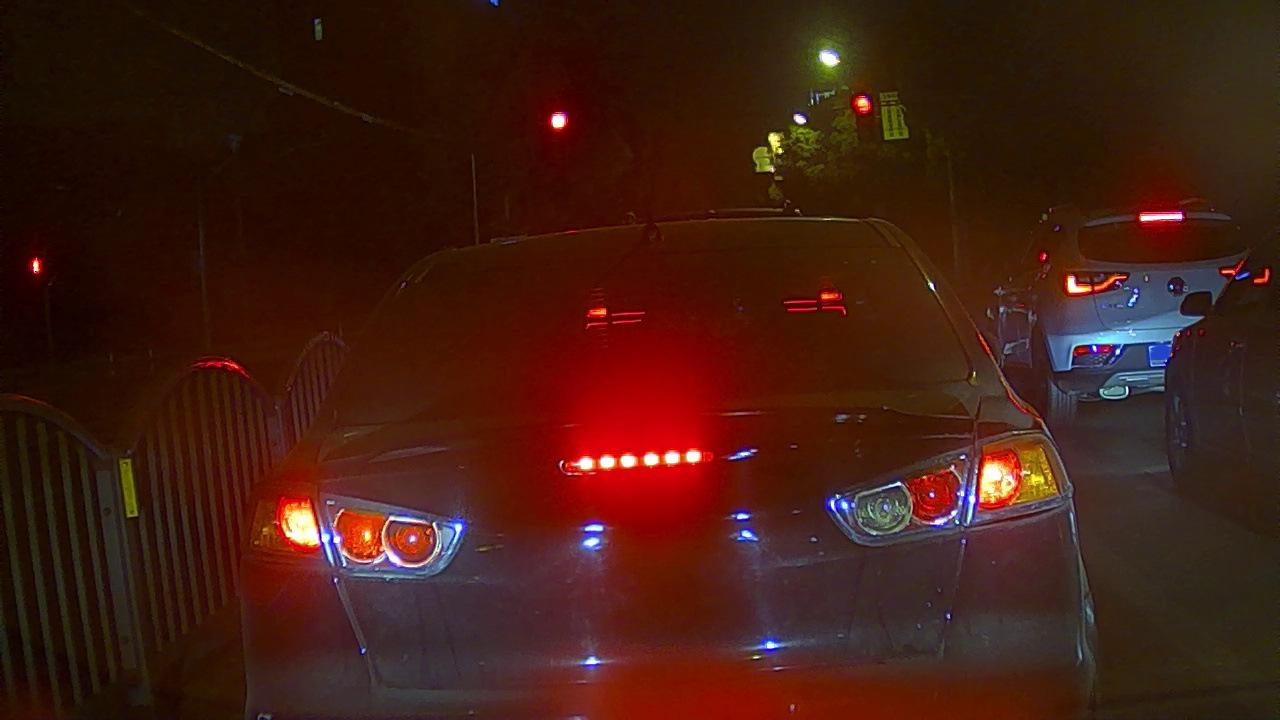traffic_light: (850, 92, 876, 143), (545, 107, 572, 137)
